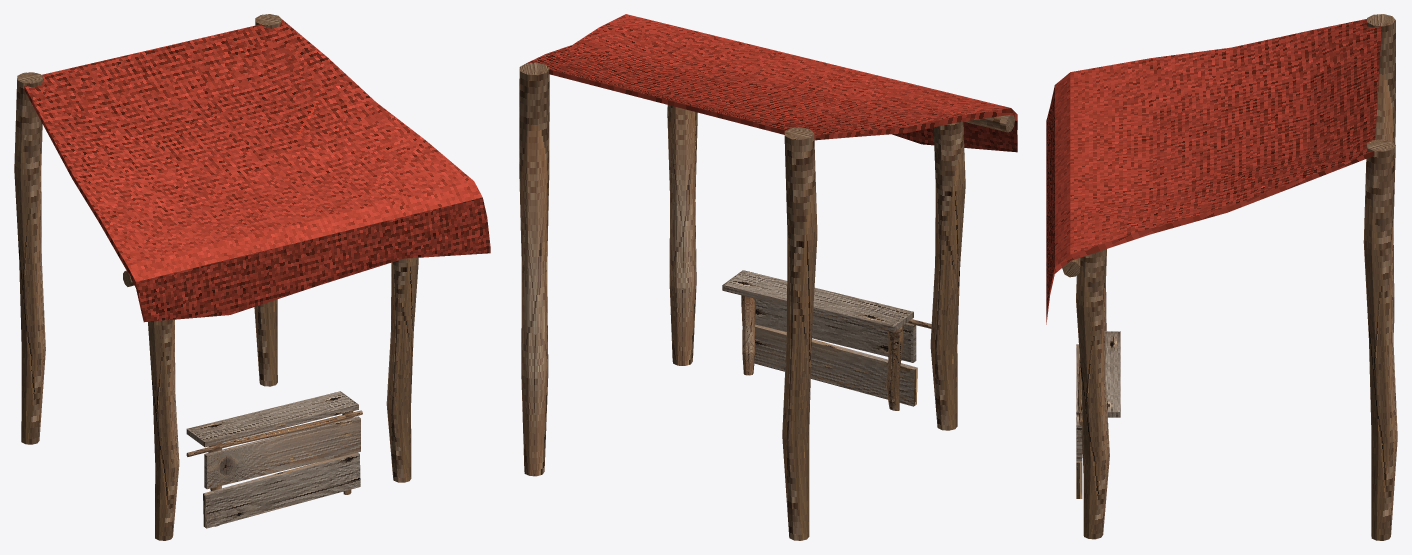
Rendered from shop.glb.
3 renders of one model, left to right at view 1: azimuth 30°, elevation 25°; view 2: azimuth 150°, elevation 25°; view 3: azimuth 270°, elevation 25°, orthographic. The views are drawn at different scales.
Parts seen in each view (by area): view 1: shop-col; view 2: shop-col; view 3: shop-col.
Boxes of the visible parts, x1,y1,x2,y2 form: shop-col: (14, 14, 490, 540); shop-col: (519, 14, 1017, 540); shop-col: (1046, 14, 1397, 540).
Bounding box in the file's own units: 4.57 × 4.5 × 3.66.
Materials: 3 (3 with a texture image).
